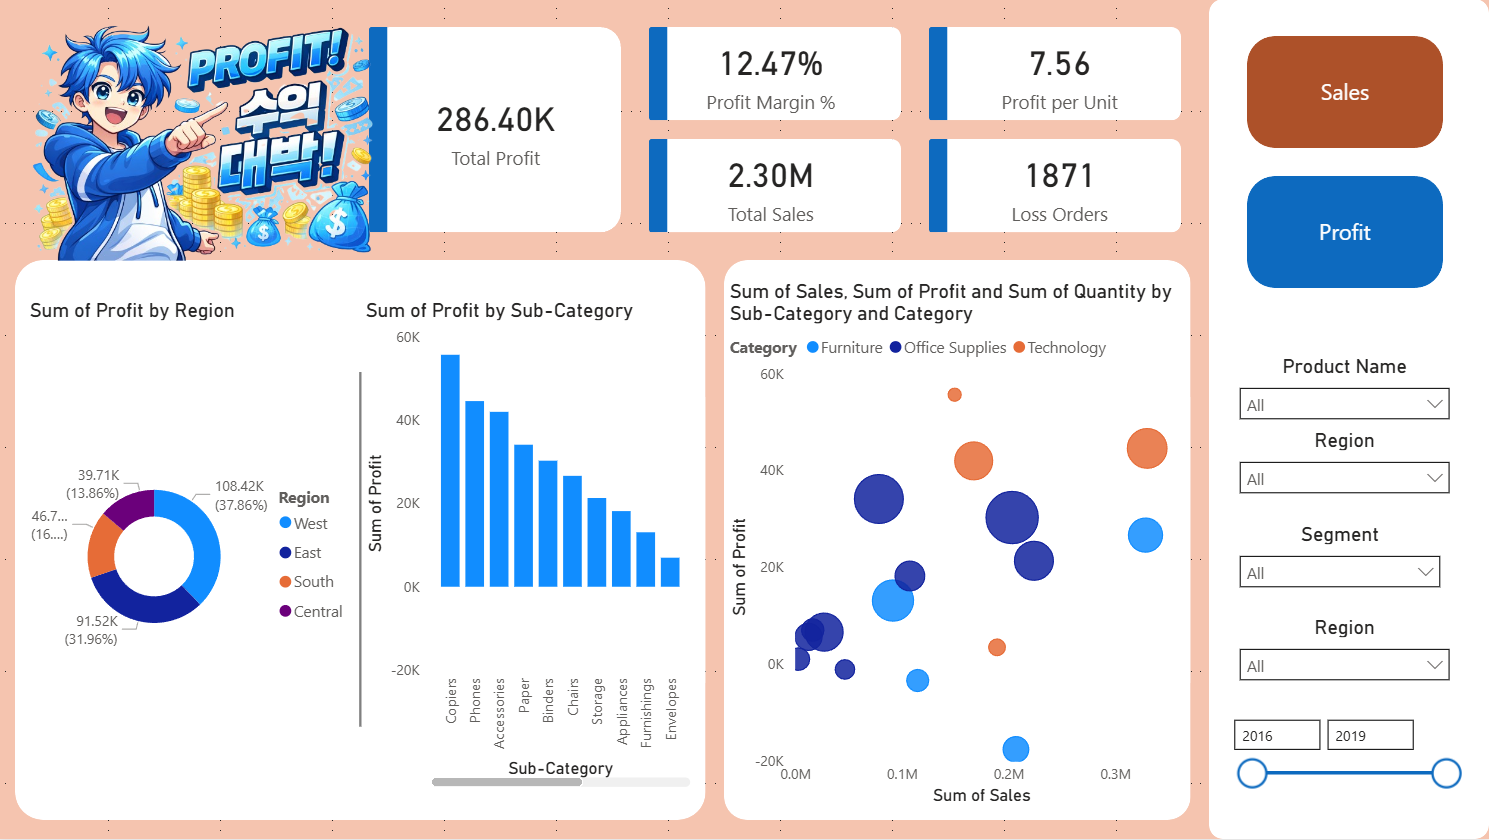

The page's visual inventory and layout, read from the dashboard file:
{"tool":"powerbi","page":{"name":"Page 1","canvas":[1280,720],"ordinal":0},"visuals":[{"type":"shape","box":[16,224,592,480],"z":0},{"type":"shape","box":[1040,0,240,720],"z":3000},{"type":"shape","box":[560,24,216,80],"z":5000},{"type":"shape","box":[560,24,16,80],"z":7000},{"type":"shape","title":"Sales Button","box":[1072,32,168,96],"z":12000},{"type":"shape","title":"Profit Button","box":[1072,152,168,96],"z":14000},{"type":"shape","box":[800,24,216,80],"z":31000},{"type":"shape","box":[800,120,216,80],"z":32000},{"type":"shape","box":[320,24,216,176],"z":33000},{"type":"shape","box":[624,224,400,480],"z":34000},{"type":"shape","box":[160,320,304,304],"z":35000},{"type":"shape","box":[320,24,16,176],"z":36000},{"type":"shape","box":[800,24,16,80],"z":37000},{"type":"shape","box":[800,120,16,80],"z":38000},{"type":"shape","box":[560,120,216,80],"z":39000},{"type":"shape","box":[560,120,16,80],"z":40000},{"type":"card","fields":{"Values":["Sum(Orders.Profit)"]},"box":[352,56,152,112],"z":41000},{"type":"card","fields":{"Values":["Orders.Profit Margin %"]},"box":[600,24,128,80],"z":42000},{"type":"card","fields":{"Values":["Sum(Orders.Sales)"]},"box":[600,120,128,80],"z":43000},{"type":"card","fields":{"Values":["Orders.Loss Orders"]},"box":[848,120,128,80],"z":44000},{"type":"donutChart","fields":{"Category":["Orders.Region"],"Y":["Sum(Orders.Profit)"]},"box":[24,256,288,424],"z":45000},{"type":"columnChart","fields":{"Category":["Orders.Sub-Category"],"Y":["Sum(Orders.Profit)"]},"box":[312,256,288,424],"z":46000},{"type":"card","fields":{"Values":["Orders.Profit per Unit"]},"box":[848,24,128,80],"z":47000},{"type":"scatterChart","fields":{"X":["Sum(Orders.Sales)"],"Y":["Sum(Orders.Profit)"],"Series":["Orders.Category"],"Size":["Sum(Orders.Quantity)"],"Category":["Orders.Sub-Category"]},"box":[624,240,400,456],"z":48000},{"type":"slicer","fields":{"Values":["Orders.Order Date.Variation.Date Hierarchy.Year"]},"box":[1048,608,216,80],"z":49000},{"type":"slicer","title":"Product Name","fields":{"Values":["Orders.Product Name"]},"box":[1056,304,200,64],"z":50000},{"type":"slicer","title":"Region","fields":{"Values":["Orders.Region"]},"box":[1056,368,200,64],"z":51000},{"type":"slicer","title":"Segment","fields":{"Values":["Orders.Segment"]},"box":[1056,448,192,80],"z":52000},{"type":"slicer","title":"Region","fields":{"Values":["Orders.Region"]},"box":[1056,528,200,64],"z":53000},{"type":"image","box":[16,16,320,208],"z":54000}]}

Visuals, with their boxes in screenshot pixels (x1, y1, x2, y2), scaled from the page's 1280x720 canvas onto the 1489x840 screenshot:
shape: x1=19, y1=261, x2=707, y2=821
shape: x1=1210, y1=0, x2=1488, y2=839
shape: x1=651, y1=28, x2=903, y2=121
shape: x1=651, y1=28, x2=670, y2=121
"Sales Button" shape: x1=1247, y1=37, x2=1442, y2=149
"Profit Button" shape: x1=1247, y1=177, x2=1442, y2=289
shape: x1=931, y1=28, x2=1182, y2=121
shape: x1=931, y1=140, x2=1182, y2=233
shape: x1=372, y1=28, x2=624, y2=233
shape: x1=726, y1=261, x2=1191, y2=821
shape: x1=186, y1=373, x2=540, y2=728
shape: x1=372, y1=28, x2=391, y2=233
shape: x1=931, y1=28, x2=949, y2=121
shape: x1=931, y1=140, x2=949, y2=233
shape: x1=651, y1=140, x2=903, y2=233
shape: x1=651, y1=140, x2=670, y2=233
card - Sum(Orders.Profit): x1=409, y1=65, x2=586, y2=196
card - Orders.Profit Margin %: x1=698, y1=28, x2=847, y2=121
card - Sum(Orders.Sales): x1=698, y1=140, x2=847, y2=233
card - Orders.Loss Orders: x1=986, y1=140, x2=1135, y2=233
donutChart - Orders.Region x Sum(Orders.Profit): x1=28, y1=299, x2=363, y2=793
columnChart - Orders.Sub-Category x Sum(Orders.Profit): x1=363, y1=299, x2=698, y2=793
card - Orders.Profit per Unit: x1=986, y1=28, x2=1135, y2=121
scatterChart - Sum(Orders.Sales) x Sum(Orders.Profit): x1=726, y1=280, x2=1191, y2=812
slicer - Orders.Order Date.Variation.Date Hierarchy.Year: x1=1219, y1=709, x2=1470, y2=803
"Product Name" slicer: x1=1228, y1=355, x2=1461, y2=429
"Region" slicer: x1=1228, y1=429, x2=1461, y2=504
"Segment" slicer: x1=1228, y1=523, x2=1452, y2=616
"Region" slicer: x1=1228, y1=616, x2=1461, y2=691
image: x1=19, y1=19, x2=391, y2=261
